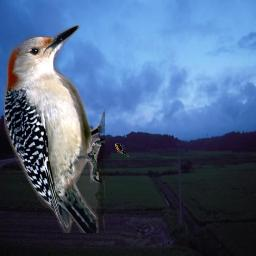Swallow: (115, 143, 129, 157)
Woodpecker: (4, 25, 105, 233)
